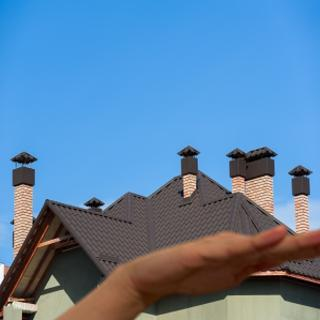WAIT: (127, 221, 320, 303)
